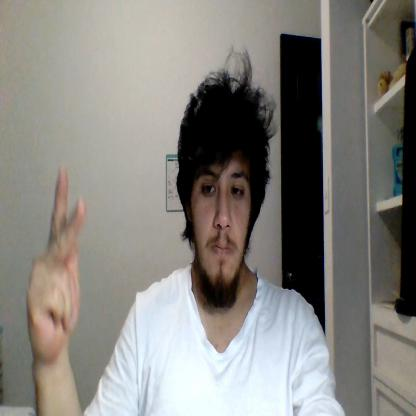P: (26, 166, 86, 360)
